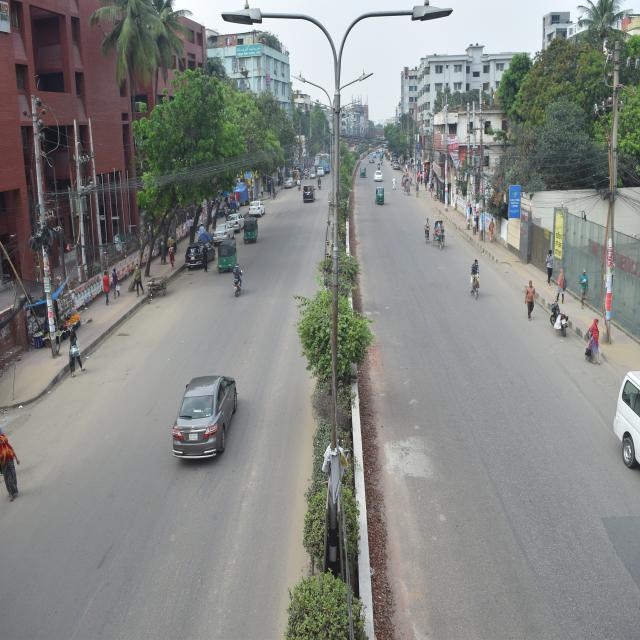car: (170, 365, 243, 460), (185, 238, 215, 270), (211, 218, 236, 246), (246, 192, 270, 220), (227, 210, 249, 234), (302, 183, 320, 206), (373, 169, 386, 182)
microbus: (613, 361, 640, 473)
motorbike: (542, 294, 571, 338), (230, 272, 249, 300)
